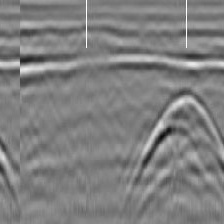Utility: (132, 90, 224, 197)
